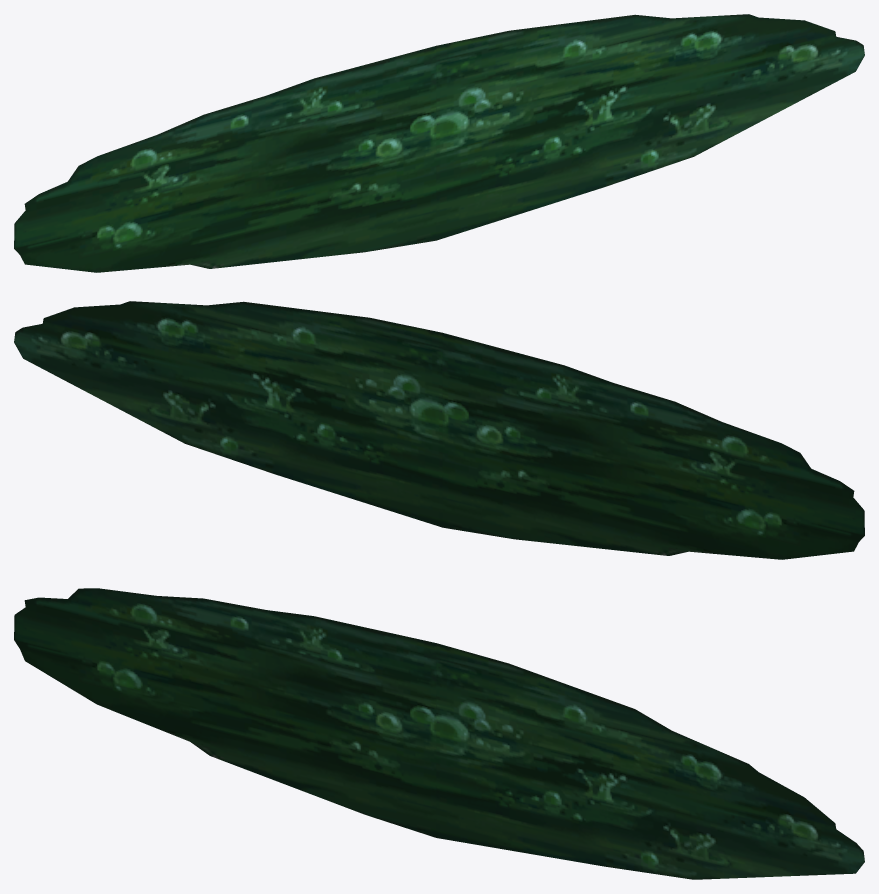
File: Dungeon_Gelanzhisen_D_zhaoze001.FBX
3 views of the same model, one above another, from view 1: azimuth 30°, elevation 25°; view 2: azimuth 150°, elevation 25°; view 3: azimuth 330°, elevation 25° (orthographic).
Parts seen in each view (by area): view 1: Dungeon_Gelanzhisen_D_zhaoze001; view 2: Dungeon_Gelanzhisen_D_zhaoze001; view 3: Dungeon_Gelanzhisen_D_zhaoze001.
Boxes of the visible parts, left/top/right/bottom form: Dungeon_Gelanzhisen_D_zhaoze001: left=14, top=14, right=864, bottom=272; Dungeon_Gelanzhisen_D_zhaoze001: left=14, top=301, right=864, bottom=559; Dungeon_Gelanzhisen_D_zhaoze001: left=14, top=588, right=864, bottom=879.
Bounding box in the file's own units: 4.23 × 0.9255 × 6.06e-07.
